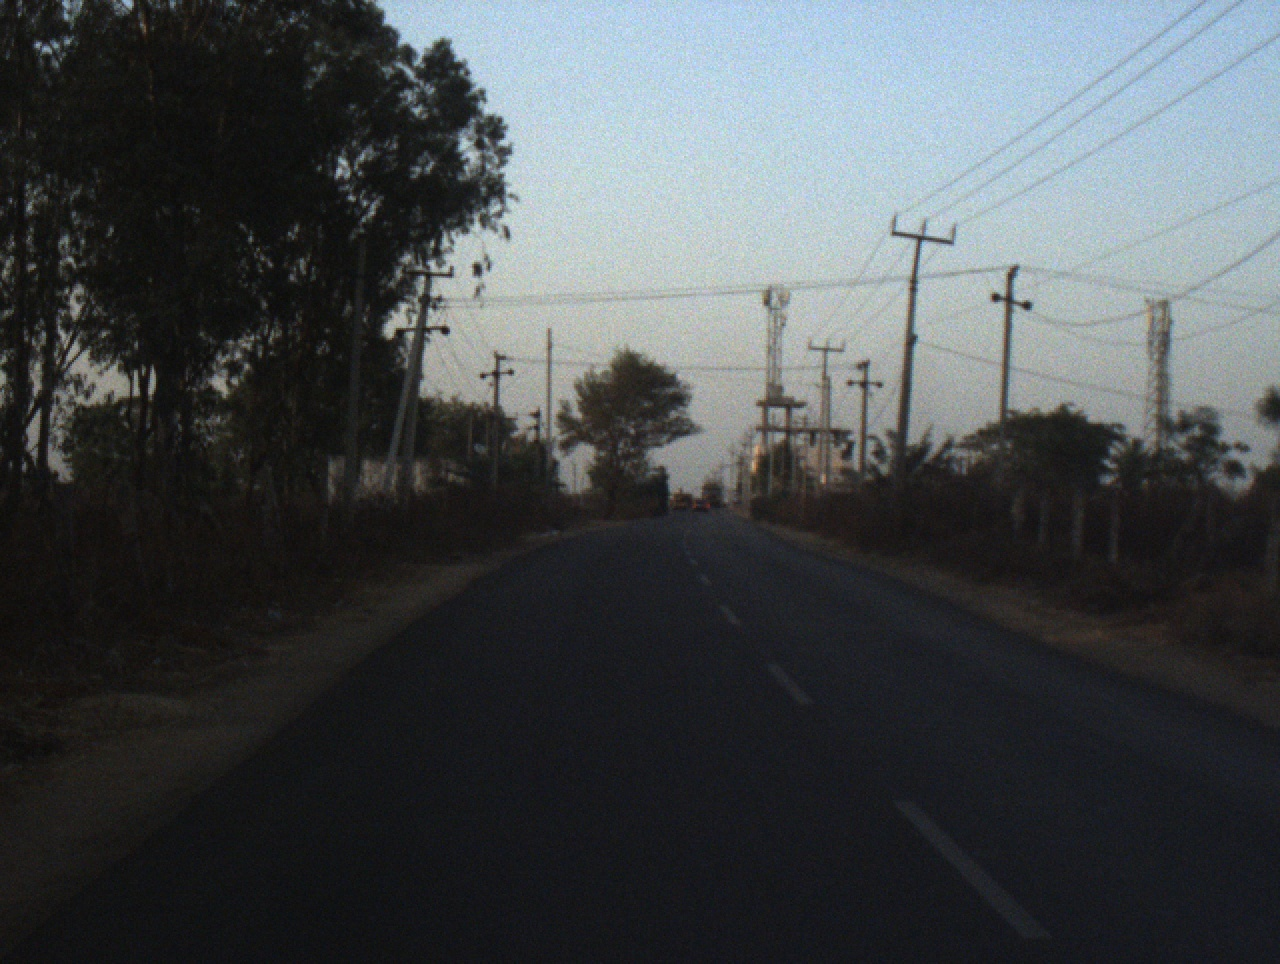autorickshaw: (669, 488, 691, 509)
car: (689, 493, 711, 514)
truck: (697, 480, 723, 509)
